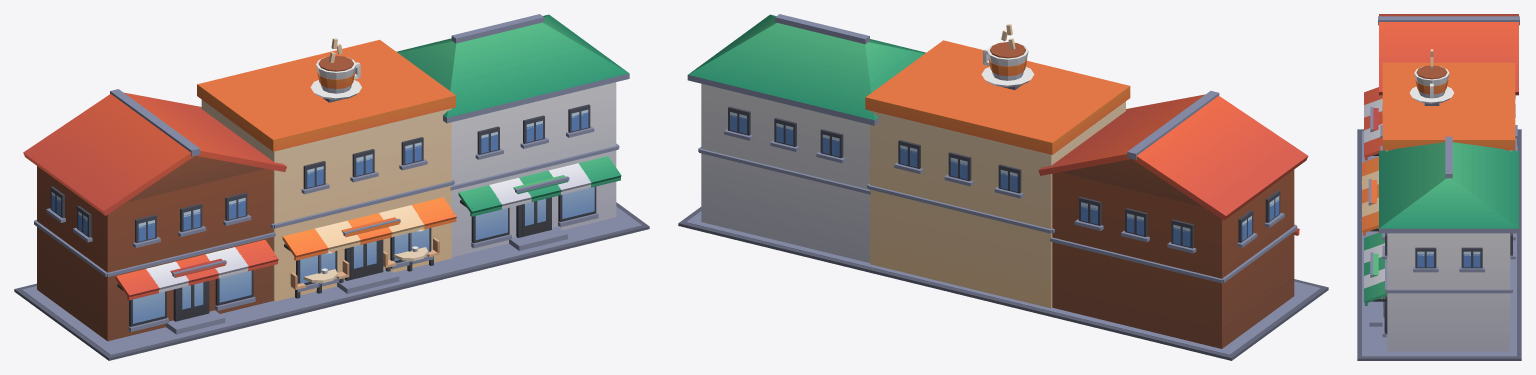
The model's file is com_strip_shops_3x1.glb.
The picture shows the model from 3 angles, left to right: view 1: azimuth 30°, elevation 25°; view 2: azimuth 150°, elevation 25°; view 3: azimuth 270°, elevation 25°; orthographic projection. The views are drawn at different scales.
Parts seen in each view (by area): view 1: com_strip_shops_3x1; view 2: com_strip_shops_3x1; view 3: com_strip_shops_3x1.
Part boxes in pixels (x1=…): com_strip_shops_3x1: x1=14, y1=14, x2=649, y2=360; com_strip_shops_3x1: x1=678, y1=14, x2=1328, y2=360; com_strip_shops_3x1: x1=1357, y1=14, x2=1521, y2=360.
Bounding box in the file's own units: 5.74 × 2.28 × 1.74.
1 material, 1 textured.
